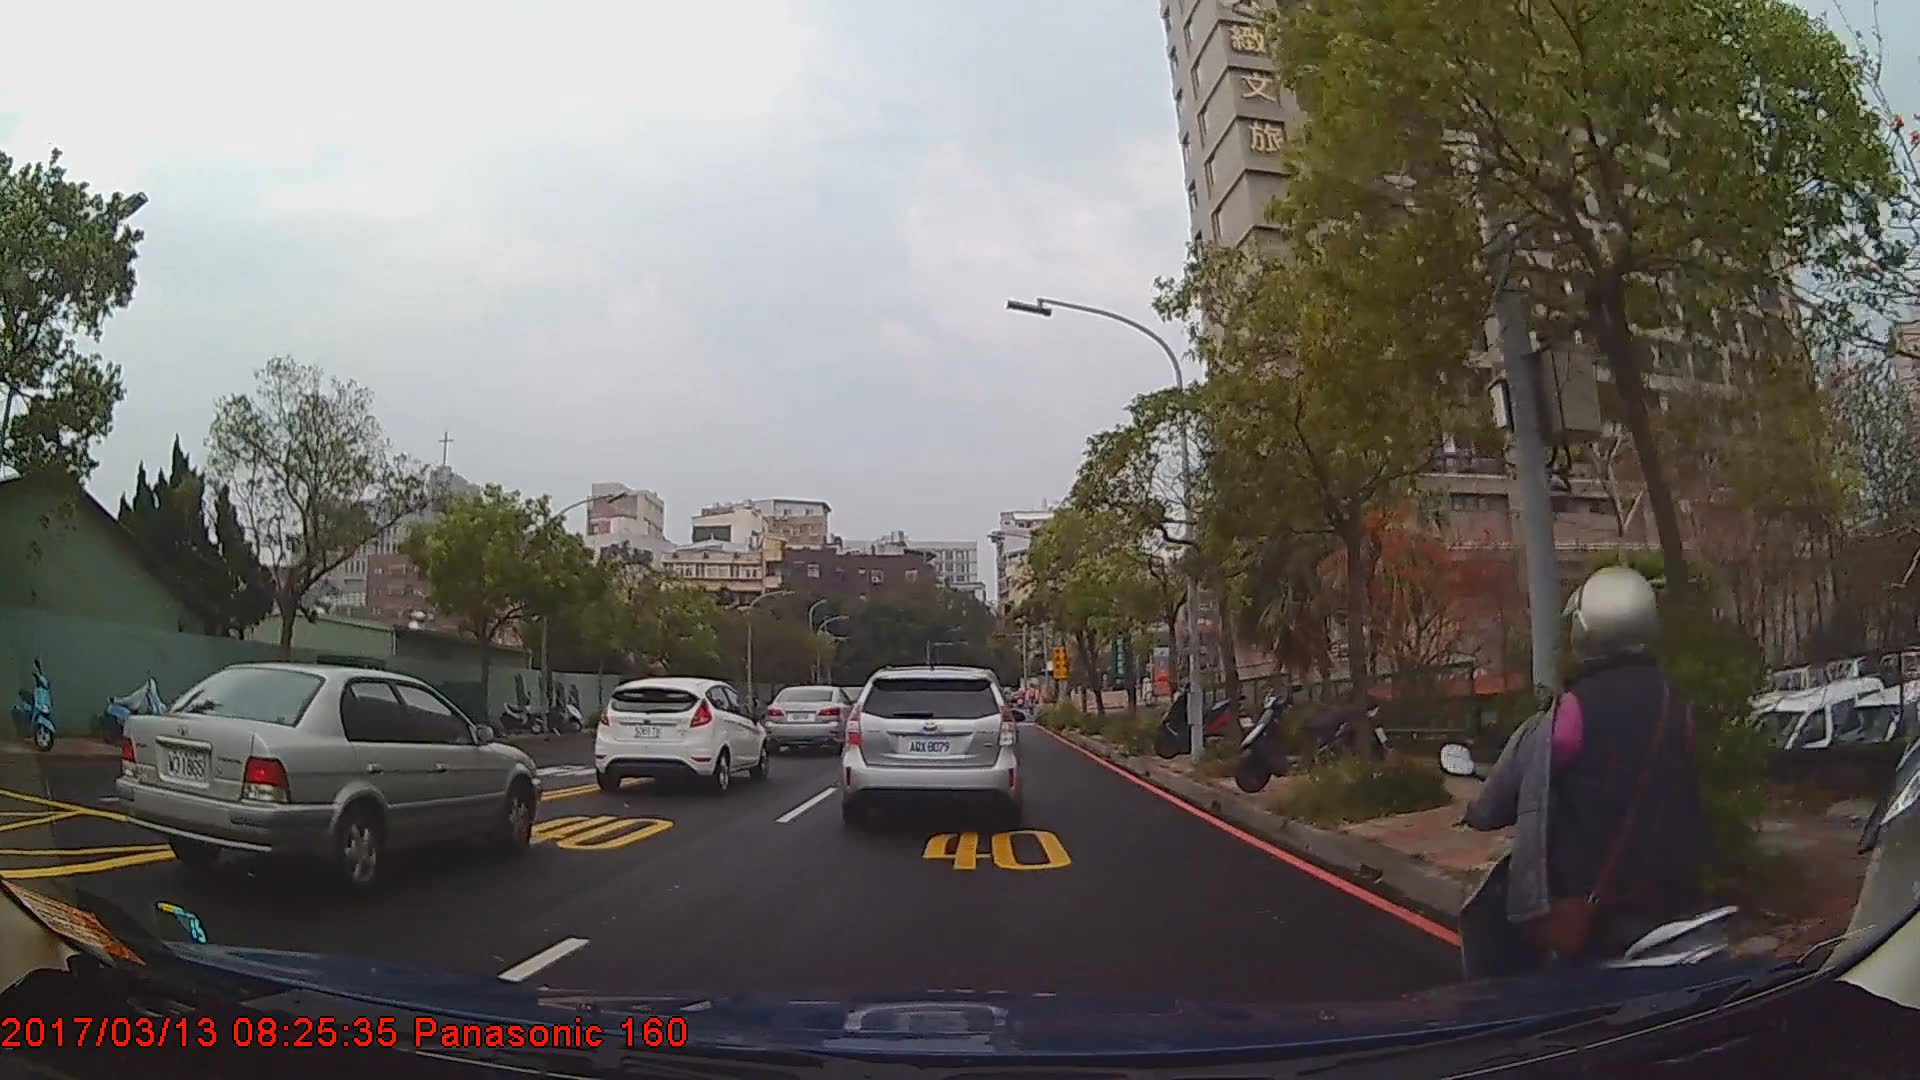rider: (1452, 565, 1738, 1047)
vehicle: (111, 661, 543, 888), (841, 663, 1018, 823), (592, 676, 769, 792), (767, 684, 861, 753)
